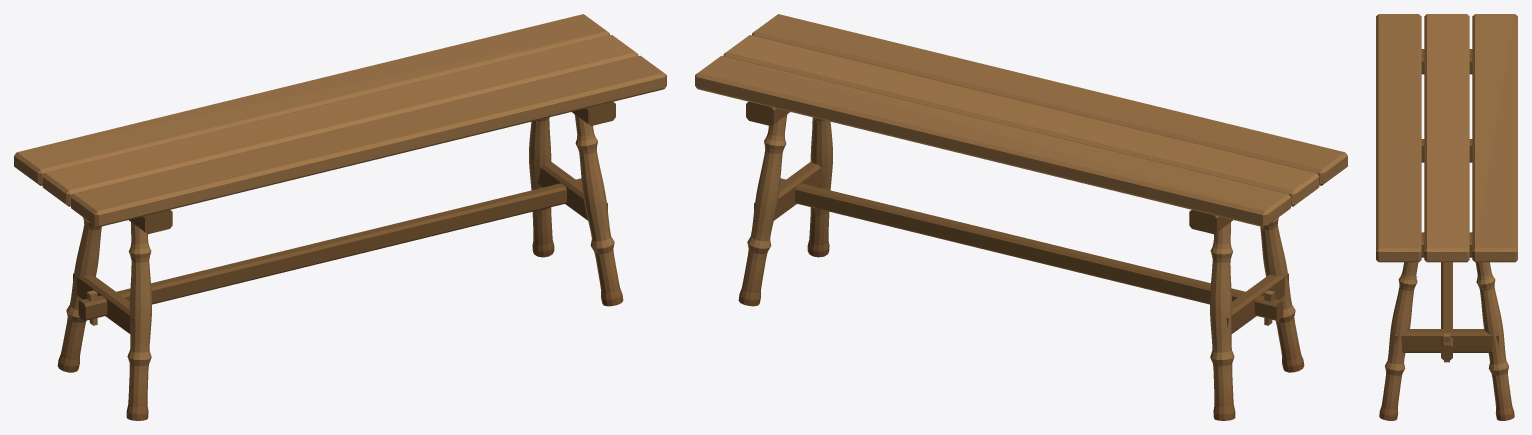
Rendered from dining-bench.glb.
3 renders of one model, left to right at view 1: azimuth 30°, elevation 25°; view 2: azimuth 150°, elevation 25°; view 3: azimuth 270°, elevation 25°, orthographic. The views are drawn at different scales.
Visible parts, largest first — view 1: dining_bench; view 2: dining_bench; view 3: dining_bench.
Boxes of the visible parts, box(x1,y1,x2,y2) form: dining_bench: box(14, 14, 666, 420); dining_bench: box(695, 14, 1347, 420); dining_bench: box(1376, 14, 1517, 420).
Size of the model in its own units: 1.24 by 0.4633 by 0.314.
